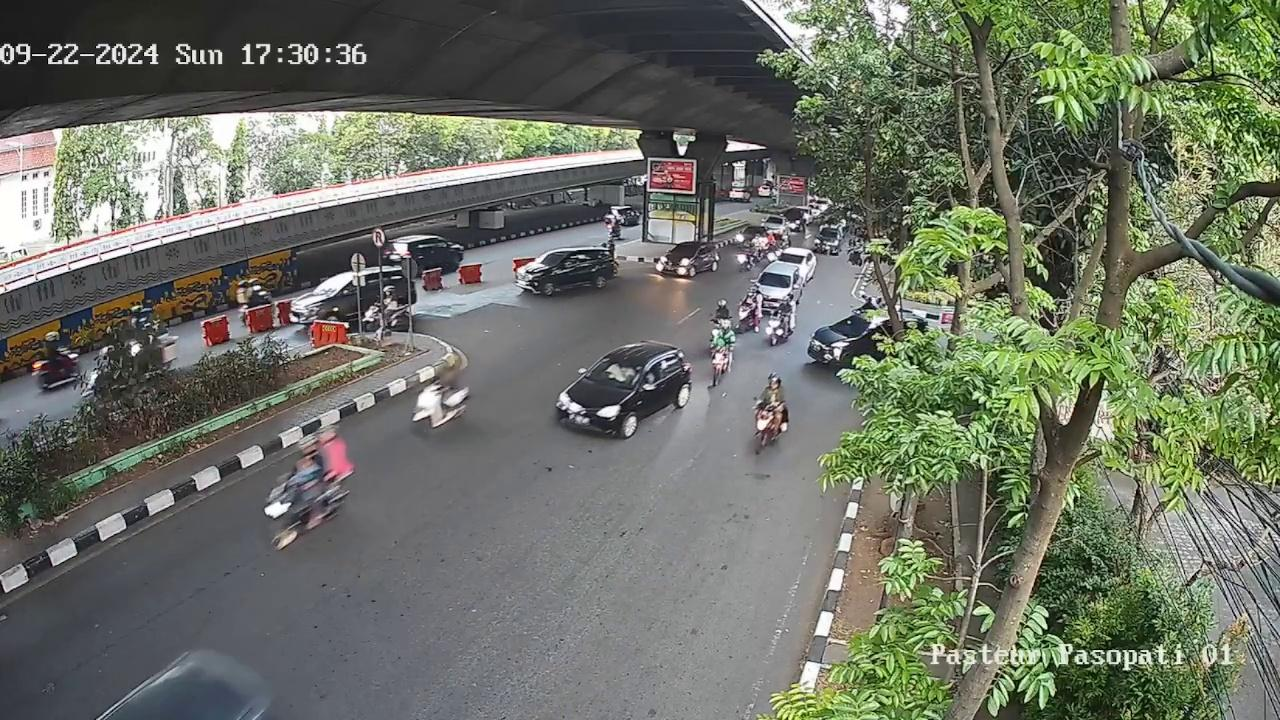tidak-pakai: (606, 361, 638, 386)
windshield: (587, 356, 646, 394), (756, 273, 794, 288)
